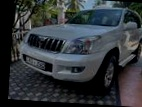car: (16, 2, 142, 96)
